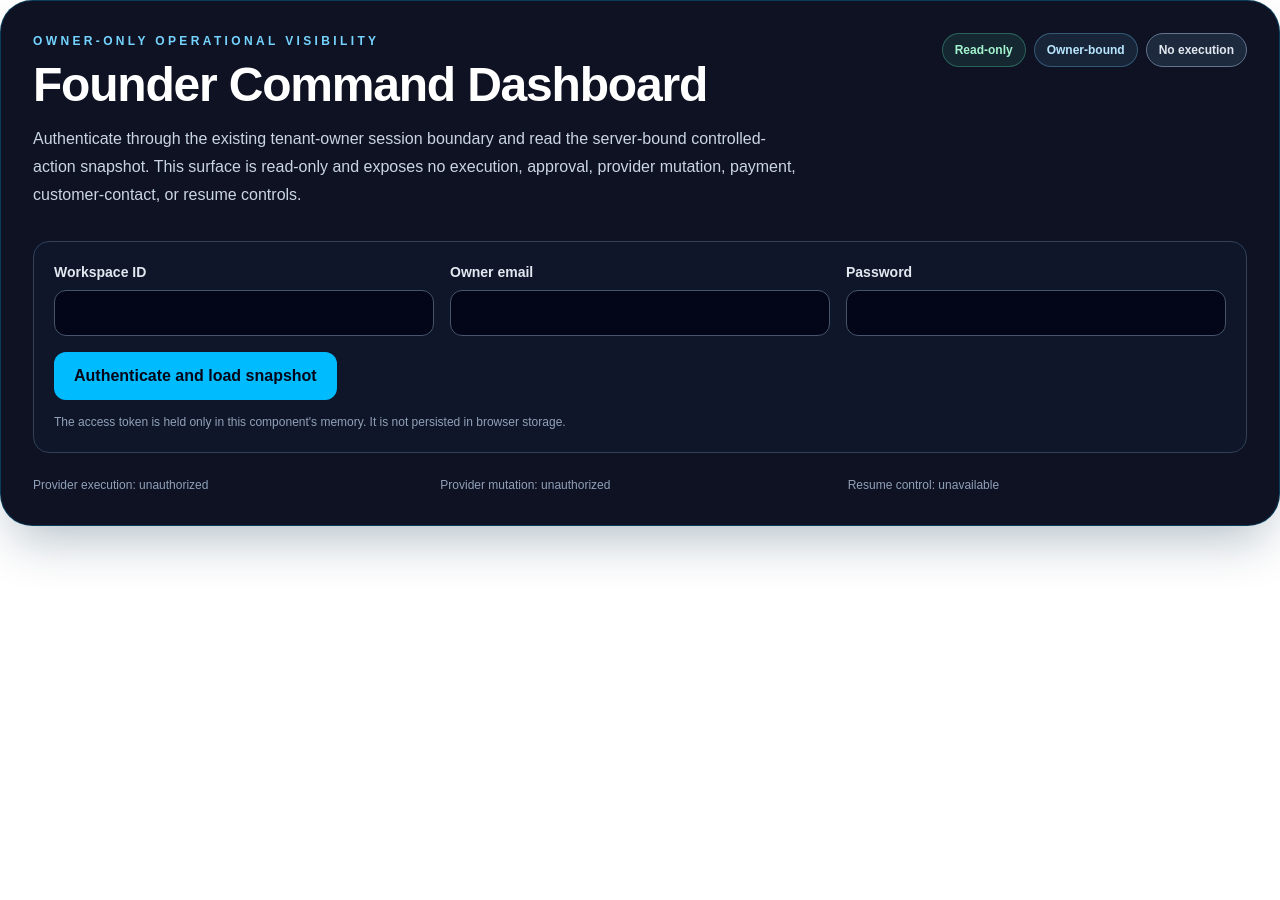
Test case: NexusFounderCommandDashboard browser interaction › fails closed when the initial snapshot cannot be verified
Type "tenant-a" into the field labelled "Workspace ID" at [244, 313], box [54,290,434,336]
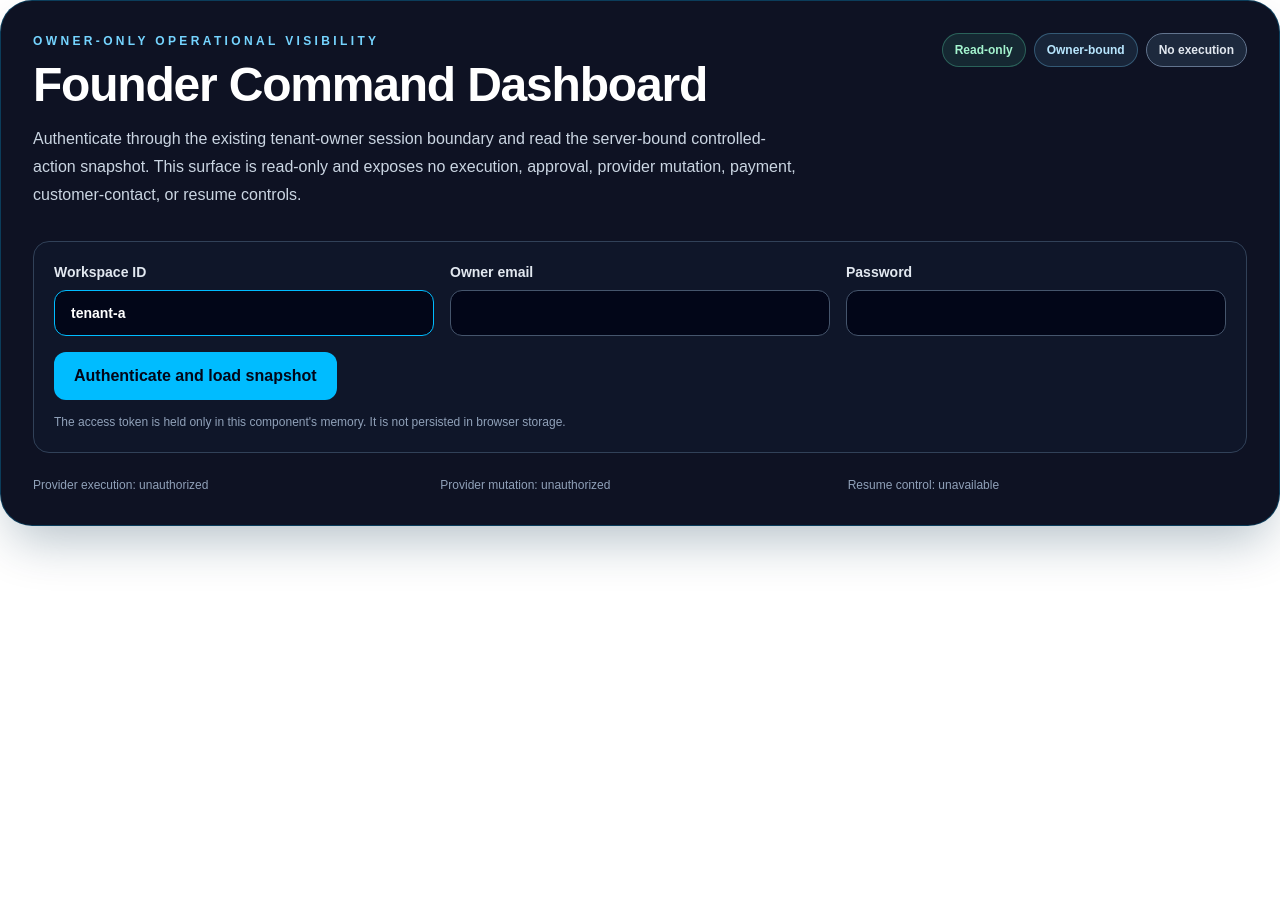
Type "owner@example.com" into the field labelled "Owner email" at [640, 313], box [450,290,830,336]
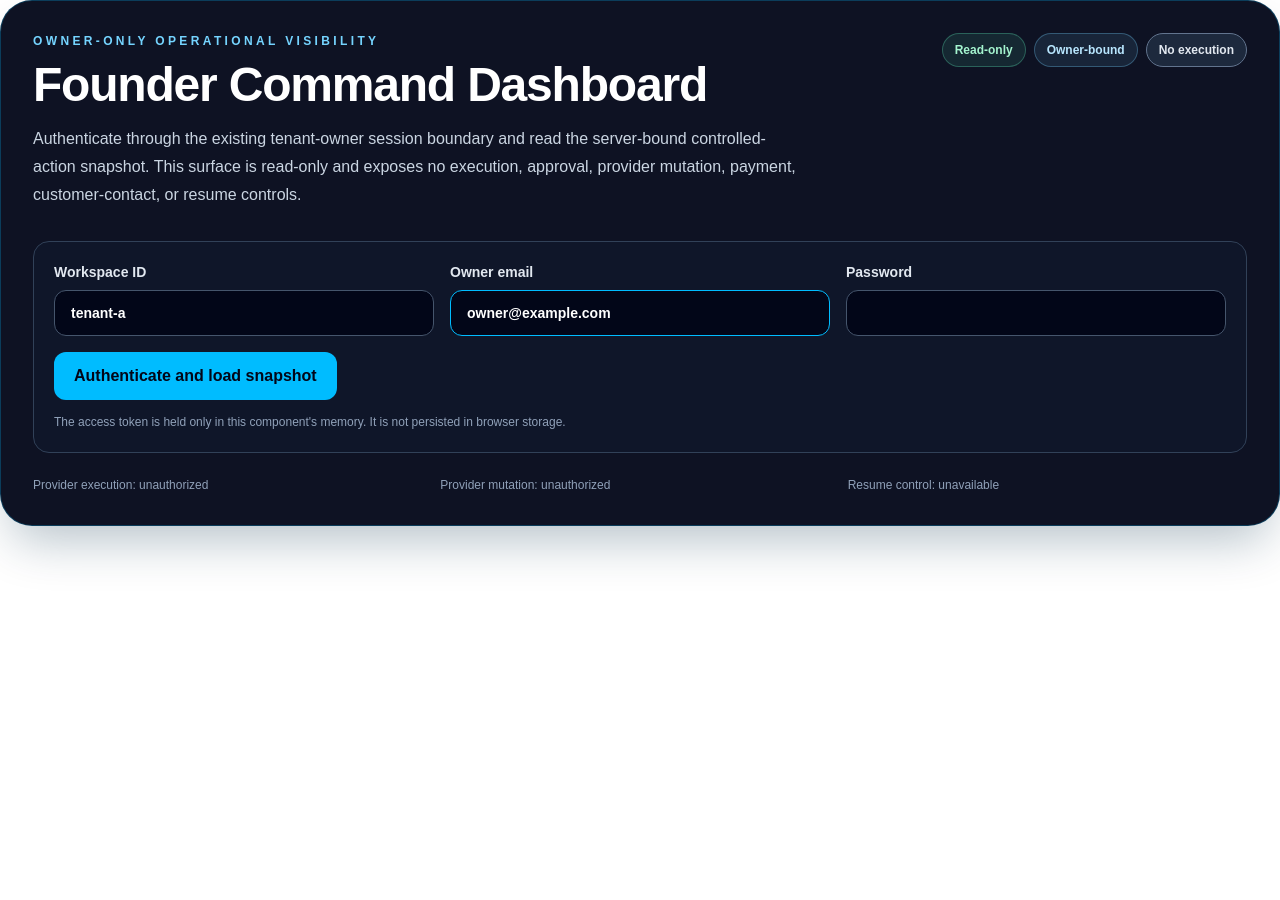
Type "secret-password" into the password field labelled "Password" at [1036, 313], box [846,290,1226,336]
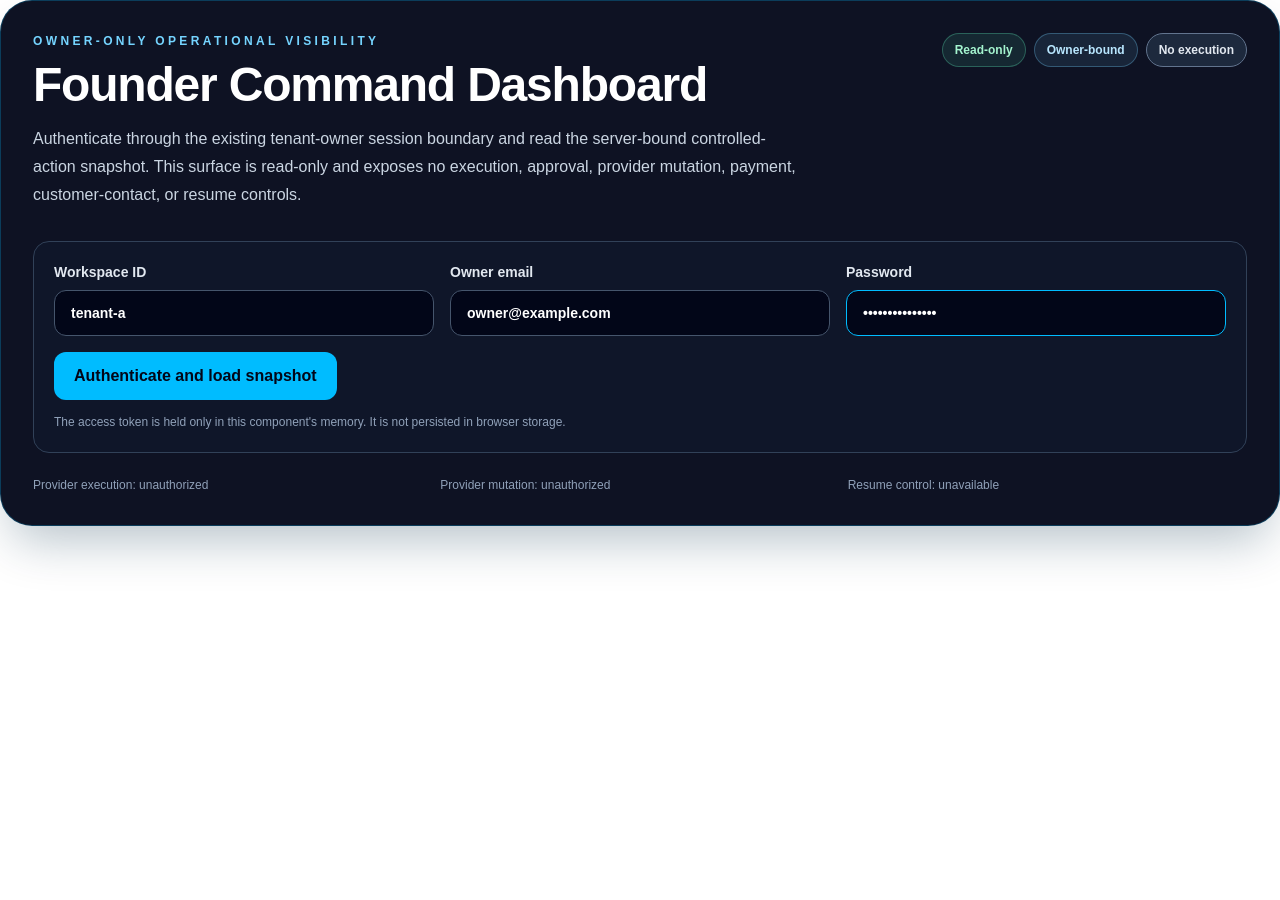
Click the button "Authenticate and load snapshot" at [195, 376], box [54,352,337,400]
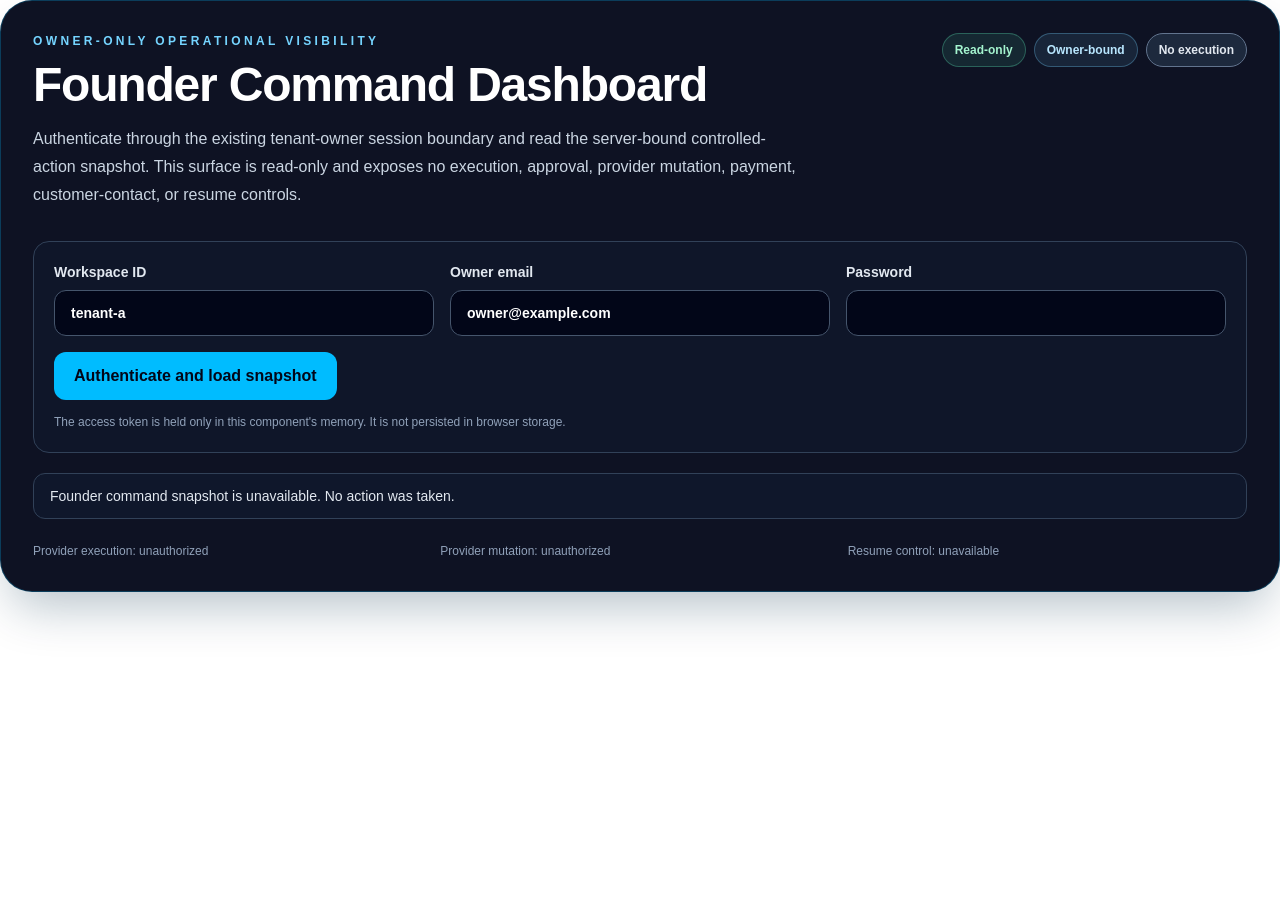
Check: the text "Founder command snapshot is unavailable. No action was taken." is shown, box [33,473,1247,519]
